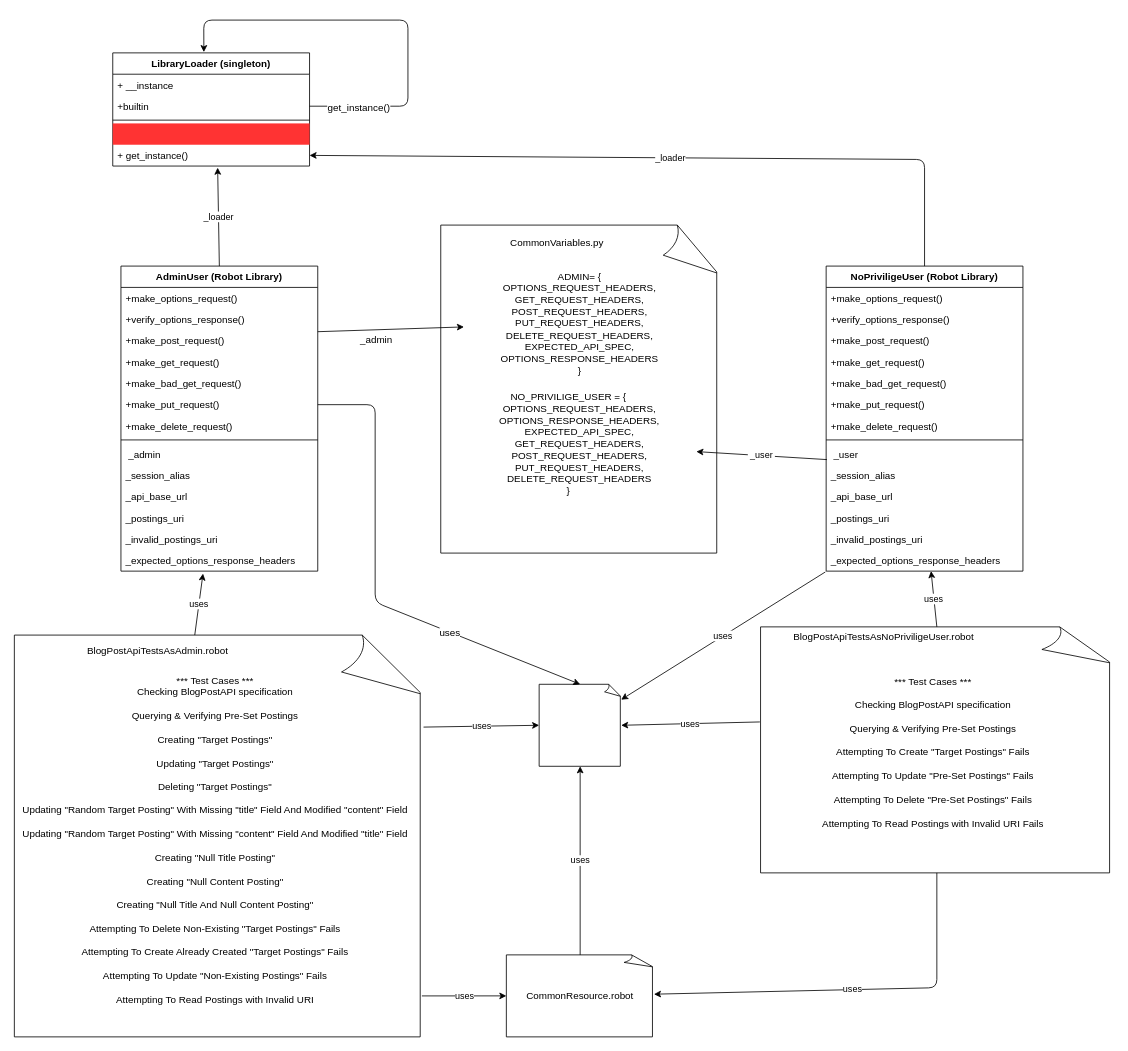
The diagram is 1128 pixels wide and 1051 high, and some of its shapes have lost their labels. The centre of each missing label's shape, as x and y in pixels:
"+ @property : rl(self)" belongs at pixel 210 133.
"Utilities.py" belongs at pixel 579 724.
